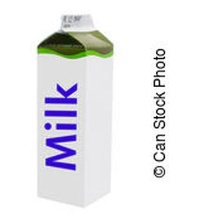carton: (26, 7, 117, 212)
